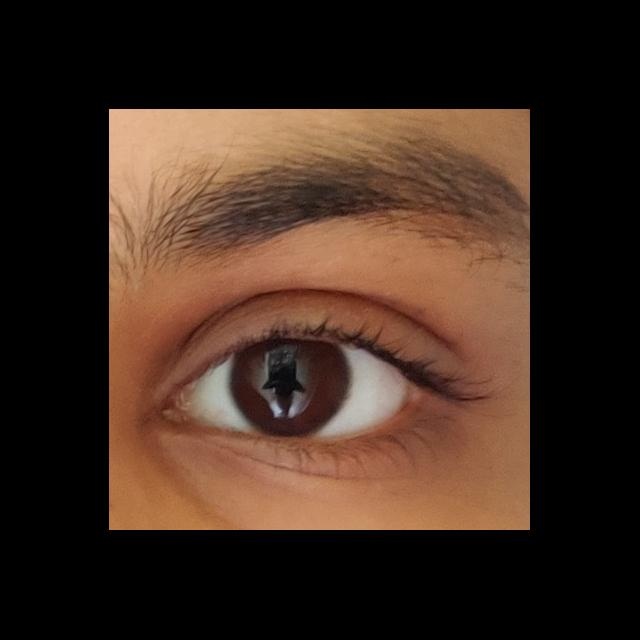eye: (187, 340, 410, 442)
iris: (230, 342, 350, 439)
